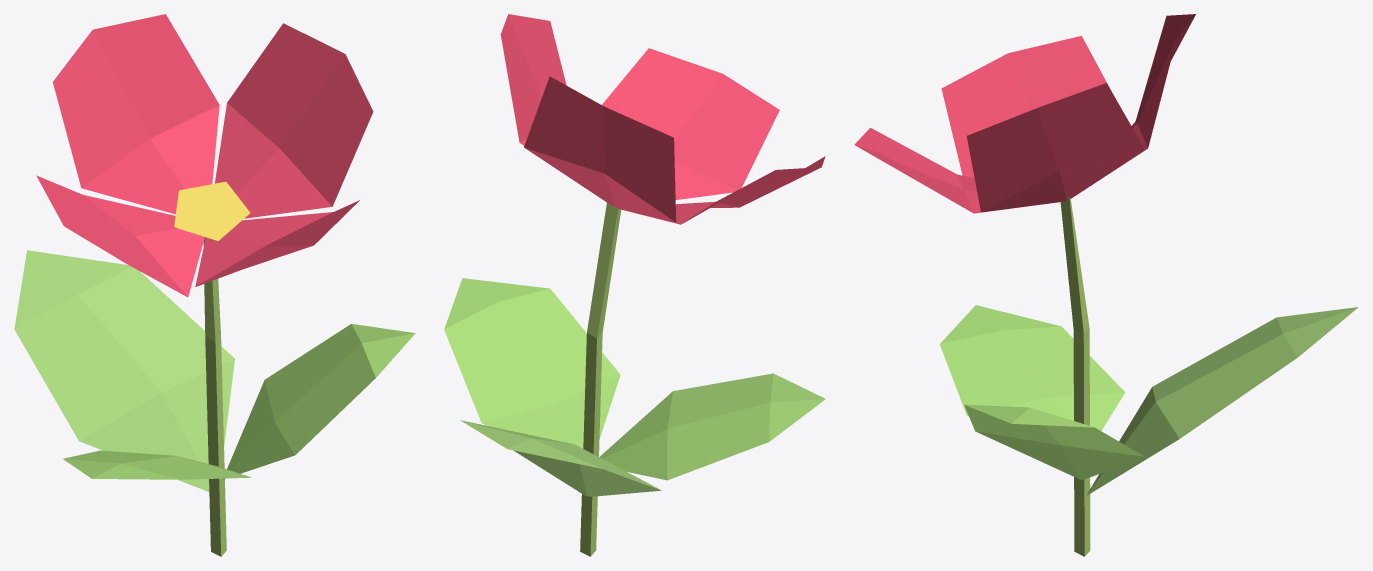
Rendered from Flower_c_TwoS_13.fbx.
3 renders of one model, left to right at view 1: azimuth 30°, elevation 25°; view 2: azimuth 150°, elevation 25°; view 3: azimuth 270°, elevation 25°, orthographic.
Parts seen in each view (by area): view 1: Flower_c_TwoS_13; view 2: Flower_c_TwoS_13; view 3: Flower_c_TwoS_13.
Boxes of the visible parts, x1,y1,x2,y2 form: Flower_c_TwoS_13: [14, 14, 415, 556]; Flower_c_TwoS_13: [444, 14, 825, 556]; Flower_c_TwoS_13: [854, 14, 1358, 556].
Bounding box in the file's own units: 0.3073 × 0.4211 × 0.3765.
